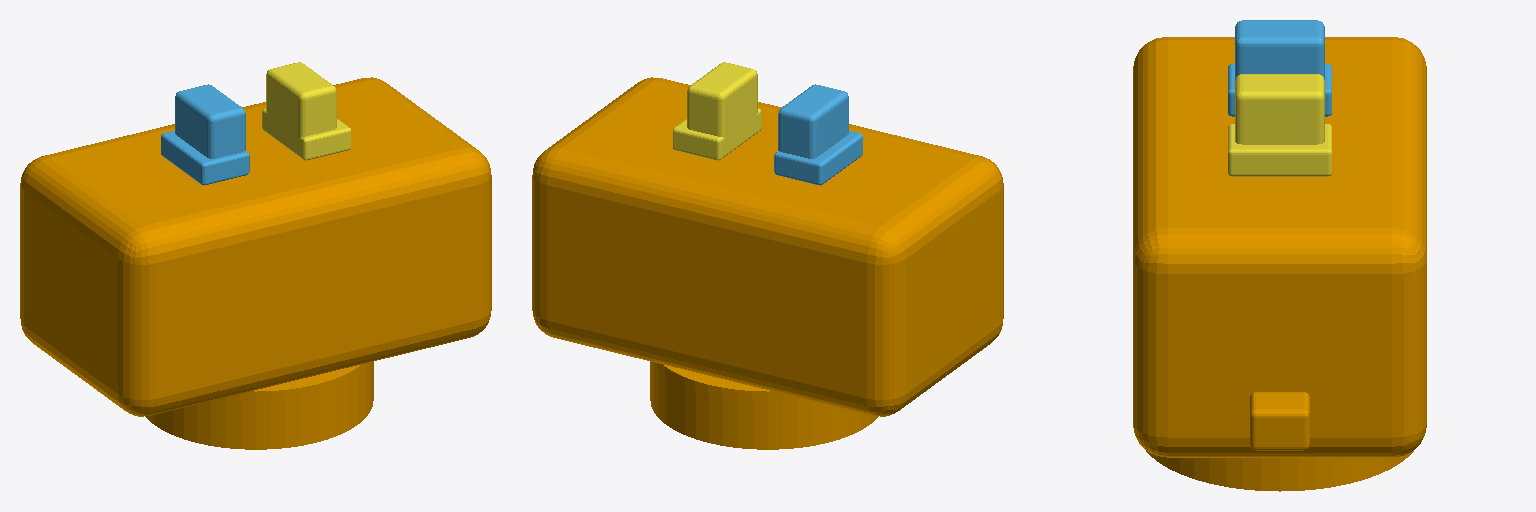
robot.urdf — ckd_rhlf_ur:
<?xml version="1.0"?>
<robot name="ckd_rhlf_ur">
<link name="mount"><visual ><geometry ><mesh filename="../meshes/rhlf-ur/mount.obj"/></geometry></visual><collision ><origin xyz="0 0 0.009" rpy="0 0 0"/><geometry ><cylinder radius="0.038" length="0.018"/></geometry></collision><collision ><origin xyz="0 0 0.053" rpy="0 0 0"/><geometry ><box size="0.138 0.079 0.07"/></geometry></collision></link>
<link name="left_jaw"><visual ><geometry ><mesh filename="../meshes/rhlf-ur/left_jaw.obj"/></geometry></visual><collision ><origin xyz="-0.019 0 0.092" rpy="0 0 0"/><geometry ><box size="0.018 0.028 0.008"/></geometry></collision><collision ><origin xyz="-0.017 0 0.0995" rpy="0 0 0"/><geometry ><box size="0.014 0.024 0.023"/></geometry></collision></link>
<link name="left_contact"></link>
<link name="right_jaw"><visual ><geometry ><mesh filename="../meshes/rhlf-ur/right_jaw.obj"/></geometry></visual><collision ><origin xyz="0.019 0 0.092" rpy="0 0 0"/><geometry ><box size="0.018 0.028 0.008"/></geometry></collision><collision ><origin xyz="0.017 0 0.0995" rpy="0 0 0"/><geometry ><box size="0.014 0.024 0.023"/></geometry></collision></link>
<link name="right_contact"></link>
<link name="tcp"></link>
<joint name="left_contact_joint" type="fixed"><parent link="left_jaw"/><child link="left_contact"/><origin xyz="-0.01 0 0.101" rpy="0 0 0"/></joint>
<joint name="finger_joint" type="prismatic"><parent link="mount"/><child link="left_jaw"/><origin xyz="0 0 0" rpy="0 0 0"/><axis xyz="-1 0 0"/><limit lower="0" upper="0.016" velocity="0.05" effort="85"/></joint>
<joint name="right_contact_joint" type="fixed"><parent link="right_jaw"/><child link="right_contact"/><origin xyz="0.01 0 0.101" rpy="0 0 0"/></joint>
<joint name="right_mimic_joint" type="prismatic"><parent link="mount"/><child link="right_jaw"/><origin xyz="0 0 0" rpy="0 0 0"/><axis xyz="1 0 0"/><limit lower="0" upper="0.016" velocity="0.05" effort="85"/><mimic joint="finger_joint" multiplier="1" offset="0"/></joint>
<joint name="tcp_joint" type="fixed"><parent link="mount"/><child link="tcp"/><origin xyz="0 0 0.101" rpy="0 0 0"/></joint>
</robot>

--- Render facts (derived) ---
Views: 3 orthographic renders of the robot side by side, from view 1: azimuth 30°, elevation 25°; view 2: azimuth 150°, elevation 25°; view 3: azimuth 270°, elevation 25°.
Robot: ckd_rhlf_ur — 6 links, 5 joints (2 prismatic, 3 fixed); root link mount; default pose: all joints at 0.
Links seen in each view (by area): view 1: mount, left_jaw, right_jaw; view 2: mount, left_jaw, right_jaw; view 3: mount, right_jaw, left_jaw.
Boxes of the visible links, x1,y1,x2,y2 form: mount: [20, 77, 491, 449]; left_jaw: [161, 84, 249, 185]; right_jaw: [262, 62, 350, 160]; mount: [532, 77, 1003, 449]; left_jaw: [774, 84, 862, 185]; right_jaw: [673, 62, 761, 160]; mount: [1133, 37, 1426, 491]; right_jaw: [1228, 74, 1331, 176]; left_jaw: [1228, 20, 1331, 116].
Bounding box of the posed robot: 0.151 × 0.079 × 0.111 m (x, y, z).
3 mesh visuals loaded from 3 distinct referenced files (3 OBJ).
